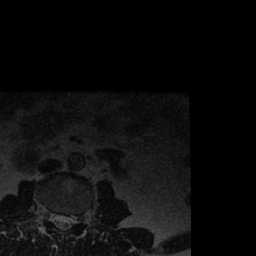CCS_normal: (58, 208, 66, 237)
LFS_normal: (74, 208, 82, 230)
LLS_normal: (66, 208, 73, 233)
RFS_normal: (44, 204, 52, 226)
RLS_normal: (51, 208, 58, 233)
